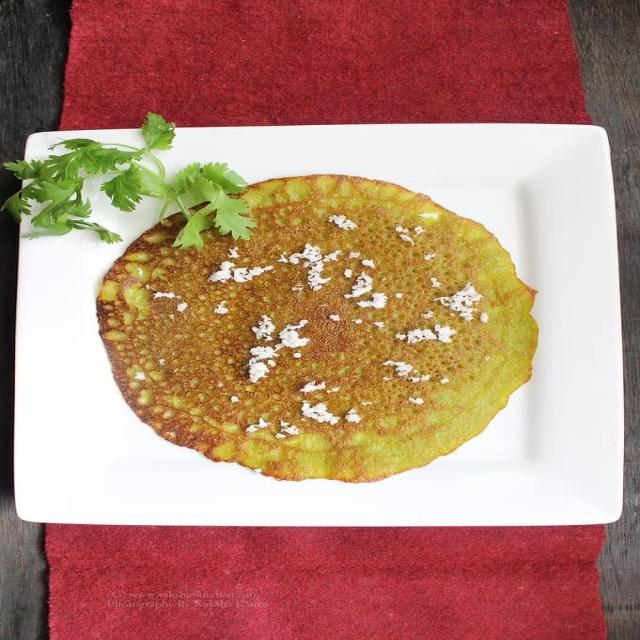DOSA: (101, 170, 535, 477)
